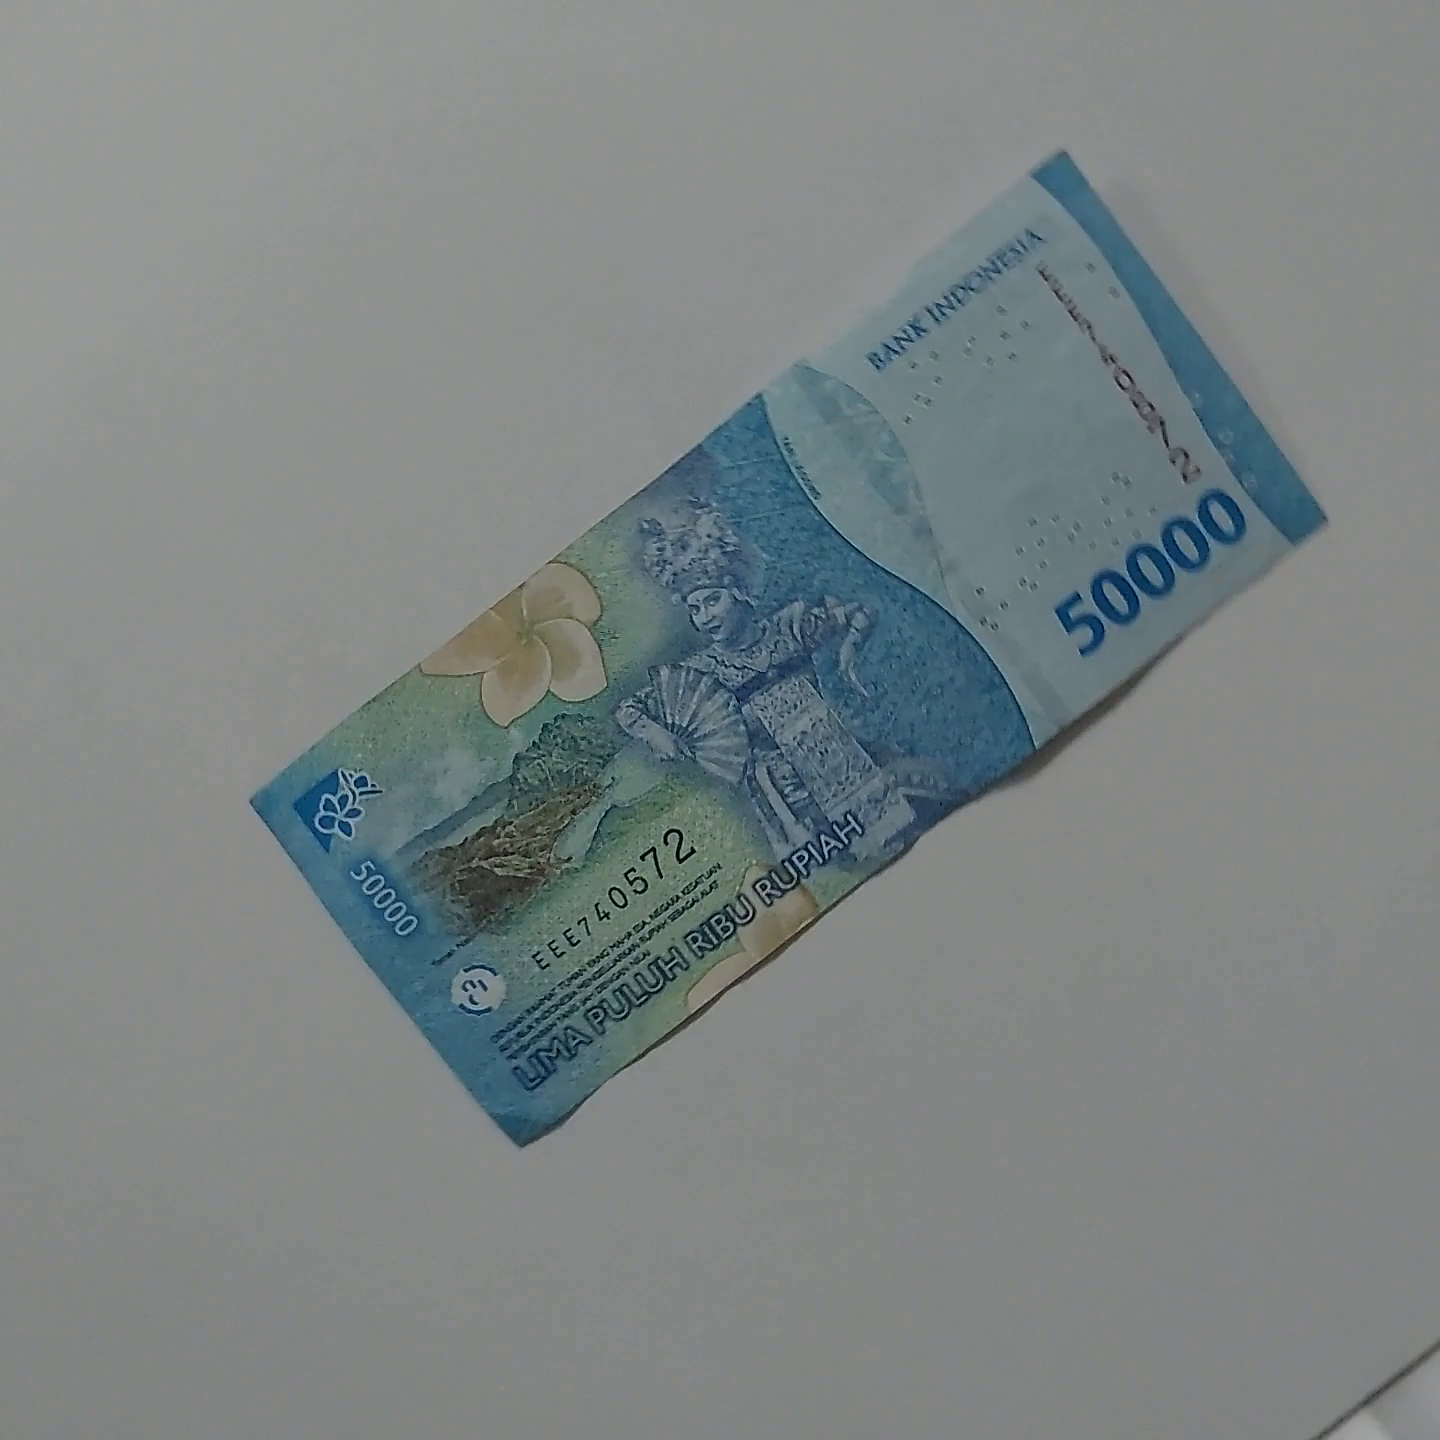50k: (1068, 133, 1440, 1199)
